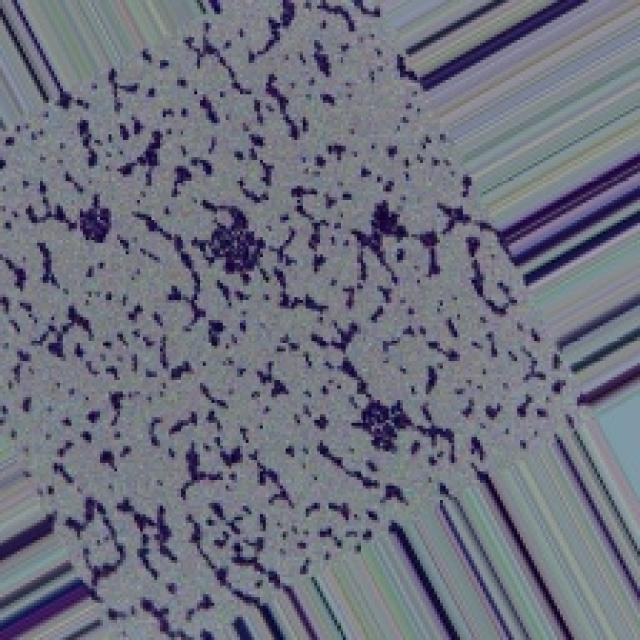Rod_bacteria: (0, 0, 583, 637)
